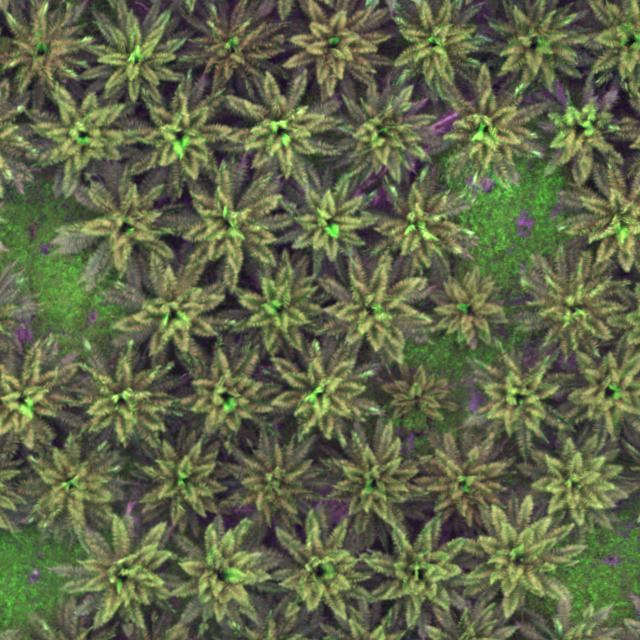oilpalm: (453, 497, 579, 616), (67, 511, 183, 633), (262, 511, 378, 629), (214, 70, 334, 183), (173, 513, 278, 639), (125, 82, 233, 187), (122, 256, 222, 366), (30, 81, 131, 187), (365, 514, 458, 629), (410, 422, 510, 527), (319, 254, 414, 364), (172, 174, 275, 273), (522, 247, 625, 346), (71, 170, 166, 275), (214, 429, 313, 529), (84, 0, 182, 101), (323, 427, 421, 527), (272, 346, 370, 442), (280, 0, 383, 90), (383, 0, 485, 90), (370, 176, 468, 269), (0, 340, 79, 455), (277, 169, 371, 265), (481, 0, 587, 85), (328, 85, 423, 179), (226, 259, 319, 355), (184, 0, 285, 86), (179, 351, 276, 440), (464, 346, 558, 437), (439, 85, 535, 172), (529, 436, 616, 528), (0, 0, 86, 90), (136, 433, 220, 525), (25, 442, 111, 527), (535, 86, 615, 176), (79, 360, 157, 450), (562, 347, 640, 437), (426, 267, 496, 346), (385, 362, 446, 429)
